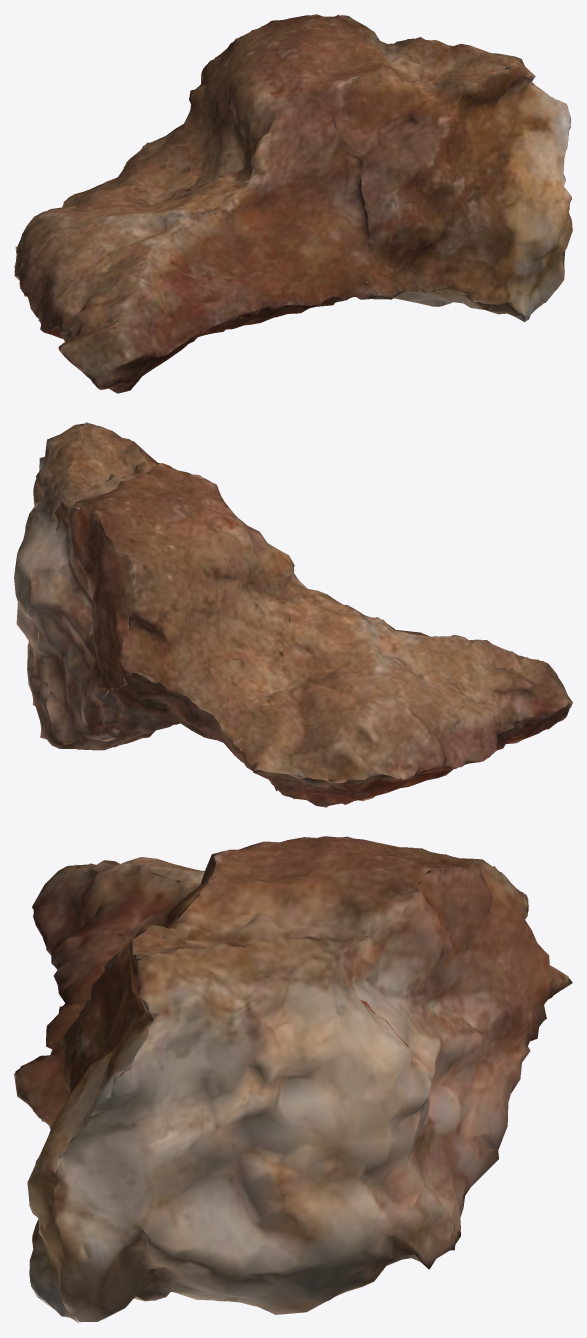
The model's file is stone_01.glb.
The picture shows the model from 3 angles, top to bottom: view 1: azimuth 30°, elevation 25°; view 2: azimuth 150°, elevation 25°; view 3: azimuth 270°, elevation 25°; orthographic projection. The views are drawn at different scales.
Parts seen in each view (by area): view 1: stone_01; view 2: stone_01; view 3: stone_01.
Part boxes in pixels (box(x1,y1,x2,y2)): stone_01: box(14, 14, 572, 393); stone_01: box(14, 422, 572, 807); stone_01: box(14, 836, 572, 1322).
Size of the model in its own units: 0.1471 by 0.0715 by 0.0899.
Materials: 1 (1 with a texture image).
